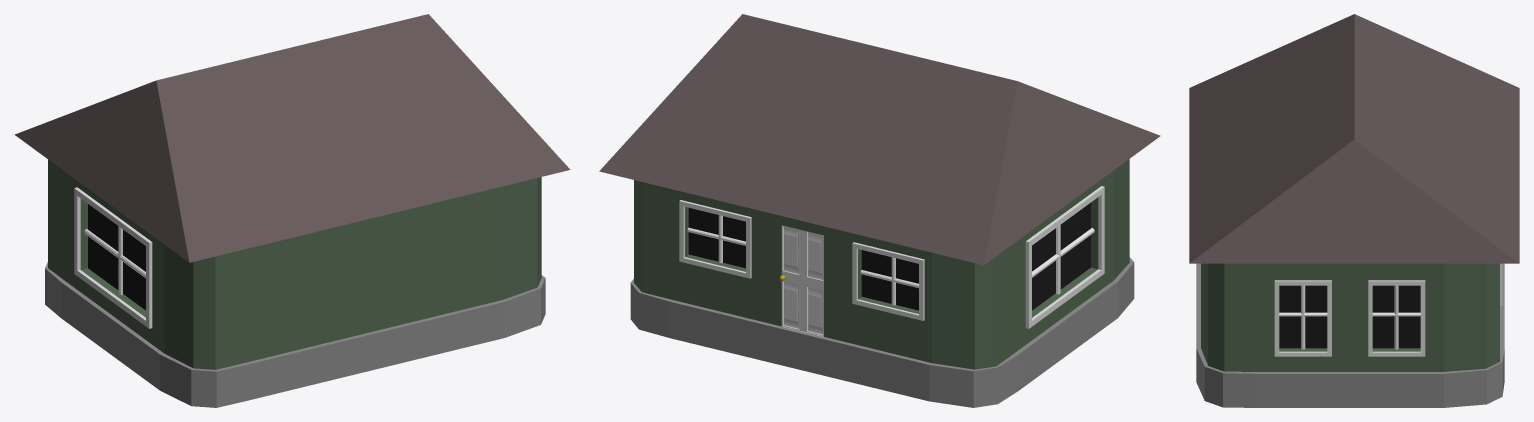
Rendered from house_2.fbx.
3 renders of one model, left to right at view 1: azimuth 30°, elevation 25°; view 2: azimuth 150°, elevation 25°; view 3: azimuth 270°, elevation 25°, orthographic. The views are drawn at different scales.
Visible parts, largest first — view 1: pPlane79; view 2: pPlane79; view 3: pPlane79.
Boxes of the visible parts, <box> form: pPlane79: <box>15,14,570,407</box>; pPlane79: <box>599,14,1160,407</box>; pPlane79: <box>1189,14,1519,407</box>.
Bounding box in the file's own units: 155698 × 101834 × 123897.
